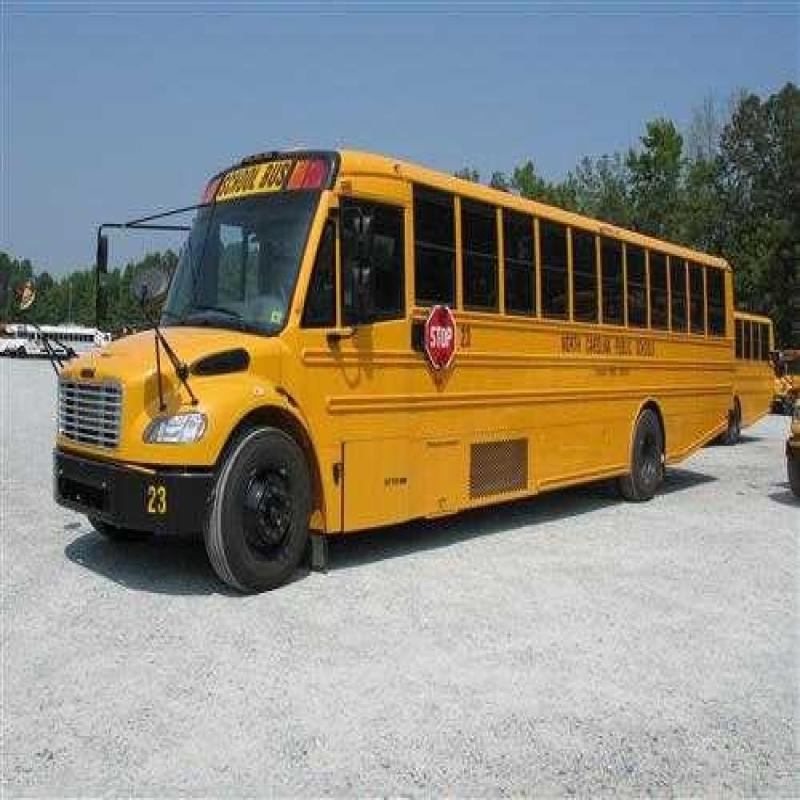bus: (55, 121, 758, 595)
